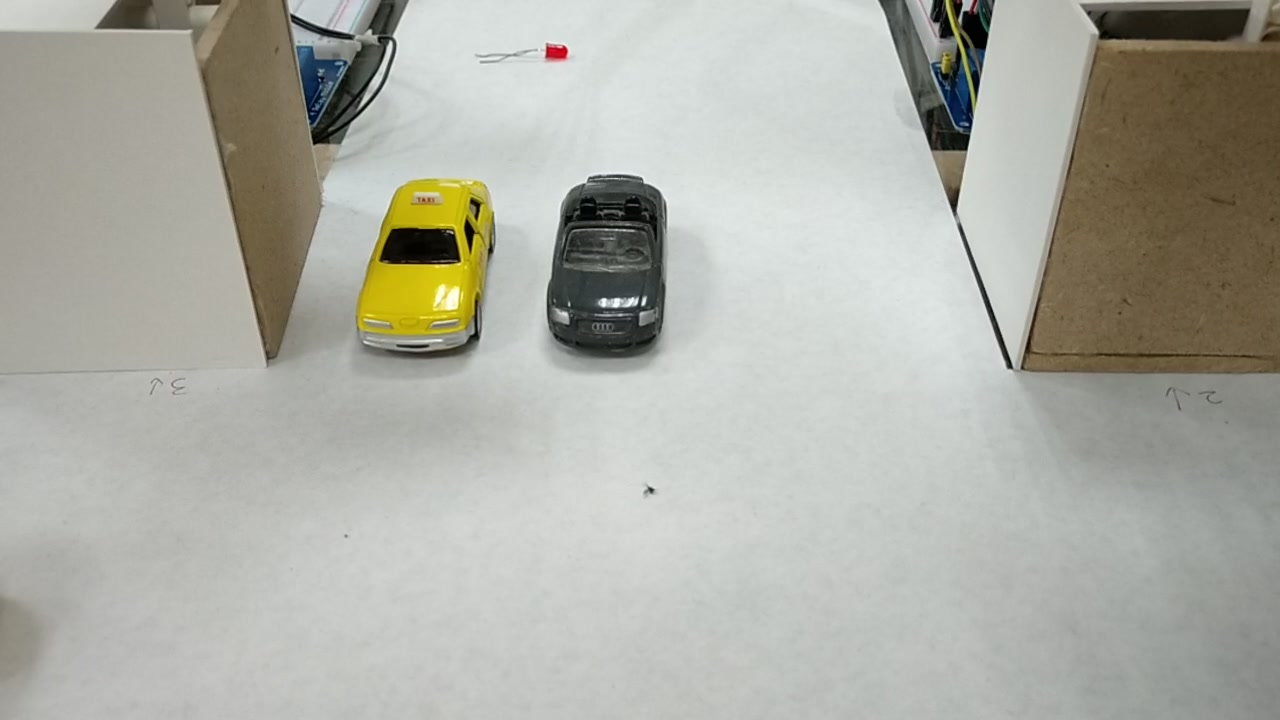car: (353, 181, 489, 363), (546, 178, 668, 336)
